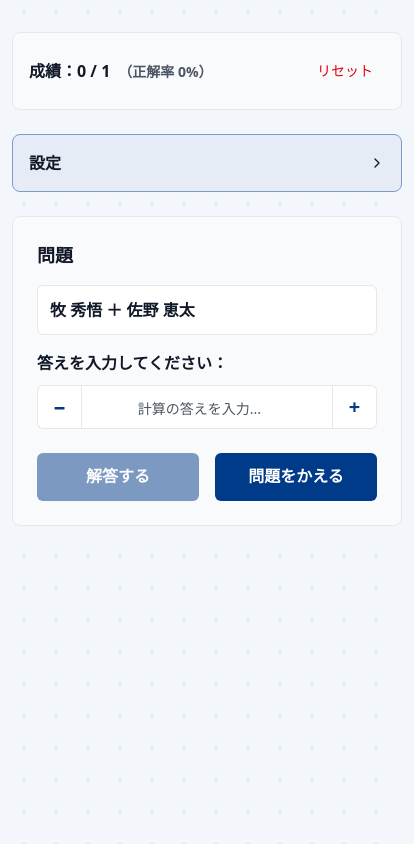
Scenario: Question Component › when answer the question › should show correct result when answer is correct
Type "9" into the number field with test id "number-input".
click(207, 407); type("9")  # box top-left (81, 385), bottom-right (333, 429)
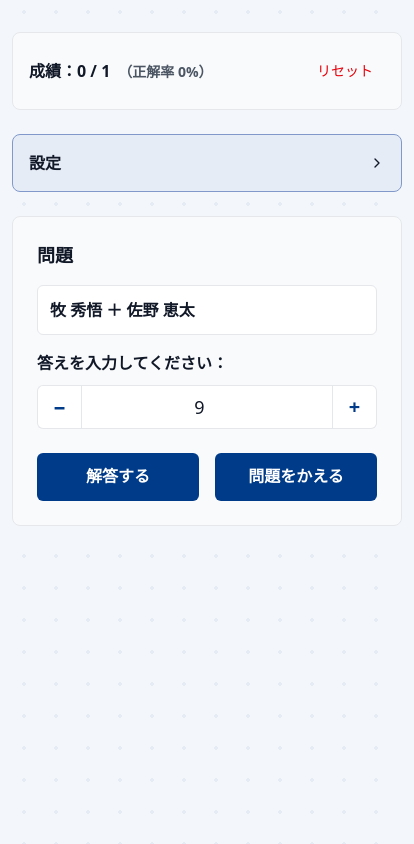
Click the button "解答する".
click(118, 477)  # box top-left (37, 453), bottom-right (199, 501)
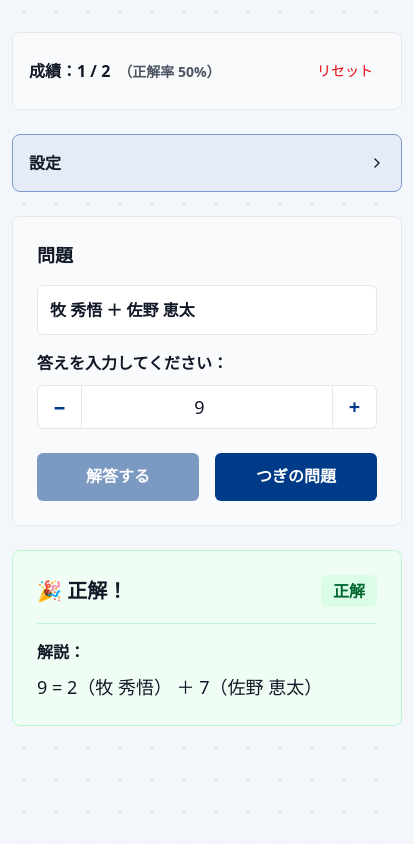
Now the text "🎉 正解！" is shown, box top-left (37, 577), bottom-right (127, 605)
Now the text "9 = 2（牧 秀悟） ＋ 7（佐野 恵太）" is shown, box top-left (37, 675), bottom-right (322, 699)
